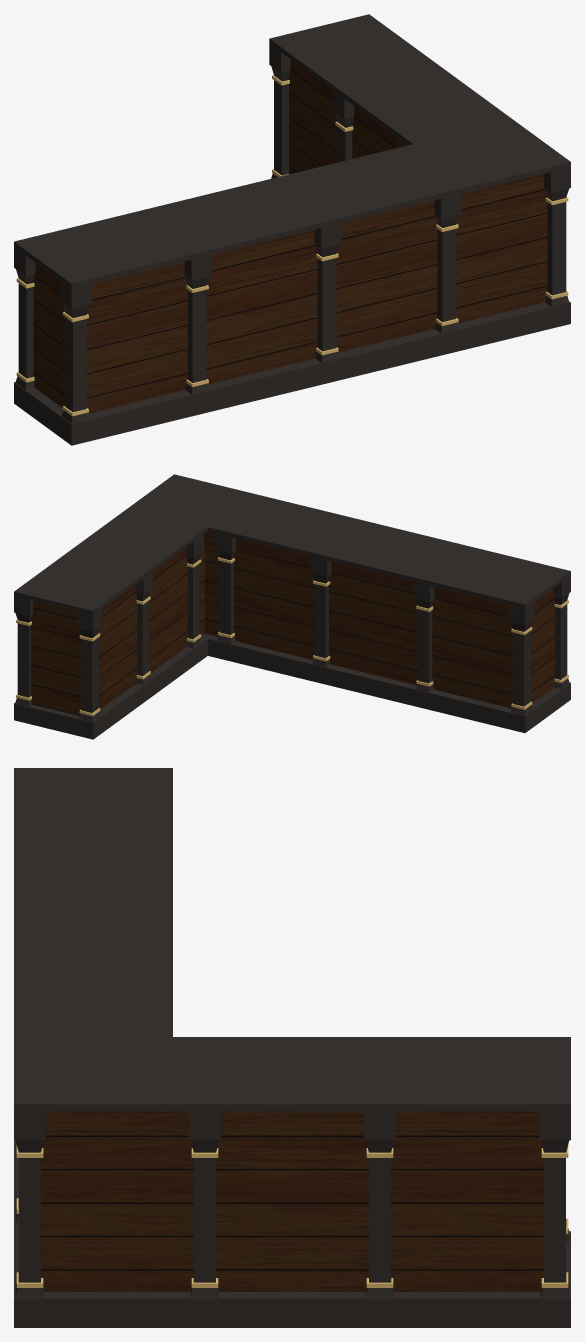
The model's file is Shop Table.fbx.
The picture shows the model from 3 angles, top to bottom: view 1: azimuth 30°, elevation 25°; view 2: azimuth 150°, elevation 25°; view 3: azimuth 270°, elevation 25°; orthographic projection. The views are drawn at different scales.
Visible parts, largest first — view 1: Cube.023, Cube.022, Cube.020, Cube.025, Cube.100, Cube.096, Cube.092, Cube.088, Cube.084, Cube.062, Cube.024, Cube.050 (+4 smaller); view 2: Cube.023, Cube.022, Cube.020, Cube.084, Cube.062, Cube.104, Cube.030, Cube.034, Cube.054, Cube.025, Cube.042, Cube.050 (+5 smaller); view 3: Cube.022, Cube.023, Cube.020, Cube.100, Cube.054, Cube.046, Cube.038, Cube.101, Cube.055, Cube.047, Cube.039.
Boxes of the visible parts, x1,y1,x2,y2 form: Cube.023: [33, 60, 547, 413]; Cube.022: [14, 14, 570, 288]; Cube.020: [14, 301, 570, 445]; Cube.025: [62, 303, 89, 423]; Cube.100: [545, 188, 569, 306]; Cube.096: [435, 215, 459, 333]; Cube.092: [315, 244, 339, 362]; Cube.088: [185, 276, 209, 394]; Cube.084: [15, 269, 34, 389]; Cube.062: [271, 66, 289, 178]; Cube.024: [60, 281, 91, 309]; Cube.050: [335, 113, 353, 162]; Cube.023: [31, 531, 555, 715]; Cube.022: [14, 474, 570, 614]; Cube.020: [14, 633, 570, 739]; Cube.084: [510, 620, 532, 715]; Cube.062: [78, 626, 100, 722]; Cube.104: [415, 599, 433, 692]; Cube.030: [312, 573, 330, 667]; Cube.034: [217, 550, 235, 643]; Cube.054: [15, 613, 32, 706]; Cube.025: [554, 593, 569, 688]; Cube.042: [186, 553, 201, 648]; Cube.050: [136, 589, 151, 685]; Cube.022: [14, 768, 570, 1111]; Cube.023: [41, 1111, 543, 1291]; Cube.020: [14, 1140, 570, 1327]; Cube.100: [15, 1140, 44, 1297]; Cube.054: [540, 1140, 569, 1297]; Cube.046: [365, 1140, 394, 1297]; Cube.038: [190, 1140, 219, 1297]; Cube.101: [14, 1111, 45, 1140]; Cube.055: [539, 1111, 570, 1140]; Cube.047: [364, 1111, 395, 1140]; Cube.039: [189, 1111, 220, 1140].
Bounding box in the file's own units: 500 × 155 × 350.
